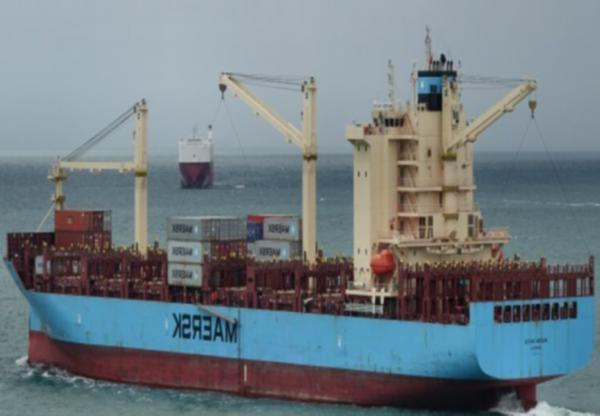Container Ship: (2, 23, 598, 411)
